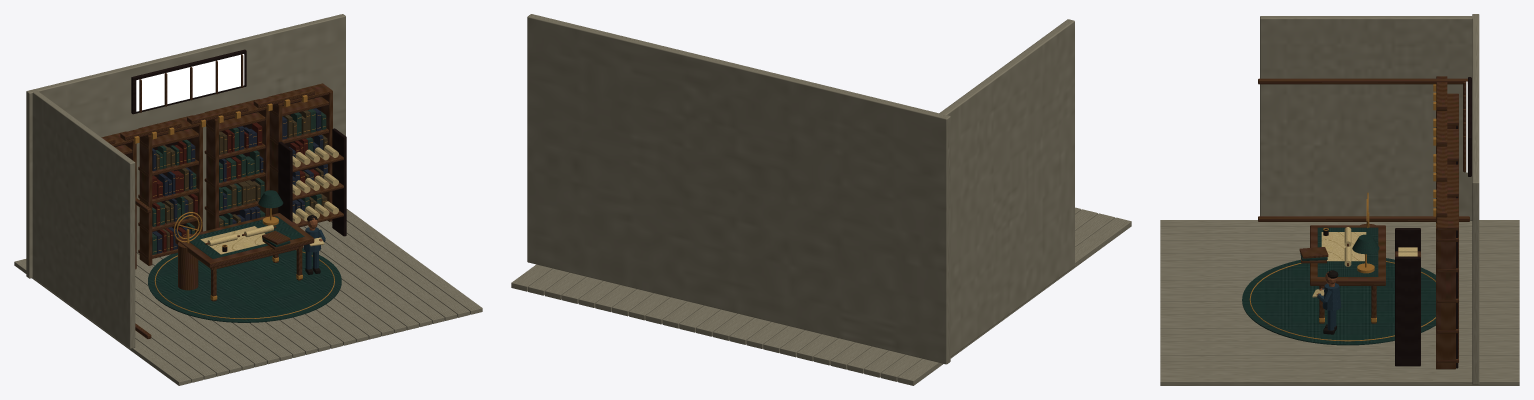
The model's file is room.glb.
3 renders of one model, left to right at view 1: azimuth 30°, elevation 25°; view 2: azimuth 150°, elevation 25°; view 3: azimuth 270°, elevation 25°, orthographic. The views are drawn at different scales.
Parts seen in each view (by area): view 1: Library stone paving, Inlaid map table, Leather writing insert, Cabinet backing, Library clerestory light, Cloth-bound volume, Cloth-bound volume.001, Blank contour study, Cloth-bound volume.004, Cloth-bound volume.002, Brass leg shoe, Figure trouser; view 2: Library stone paving; view 3: Library stone paving, Inlaid map table, Leather writing insert, Cabinet backing, Blank contour study, Brass leg shoe, Figure trouser.
Part boxes in pixels (x1,y1,x2,y2): Library stone paving: (14, 14, 482, 385); Inlaid map table: (101, 54, 343, 338); Leather writing insert: (148, 190, 341, 322); Cabinet backing: (114, 49, 346, 251); Library clerestory light: (136, 54, 244, 111); Cloth-bound volume: (152, 109, 326, 254); Cloth-bound volume.001: (152, 108, 327, 253); Blank contour study: (200, 145, 338, 254); Cloth-bound volume.004: (156, 110, 327, 251); Cloth-bound volume.002: (152, 122, 319, 252); Brass leg shoe: (134, 95, 334, 319); Figure trouser: (303, 227, 325, 269); Library stone paving: (511, 14, 1131, 385); Library stone paving: (1160, 14, 1519, 385); Inlaid map table: (1258, 76, 1469, 369); Leather writing insert: (1242, 227, 1435, 345); Cabinet backing: (1323, 77, 1471, 368); Blank contour study: (1321, 227, 1417, 266); Brass leg shoe: (1249, 84, 1436, 341); Figure trouser: (1317, 283, 1341, 330).
Size of the model in its own units: 10 by 5.72 by 9.
Materials: 14 (14 with a texture image).
